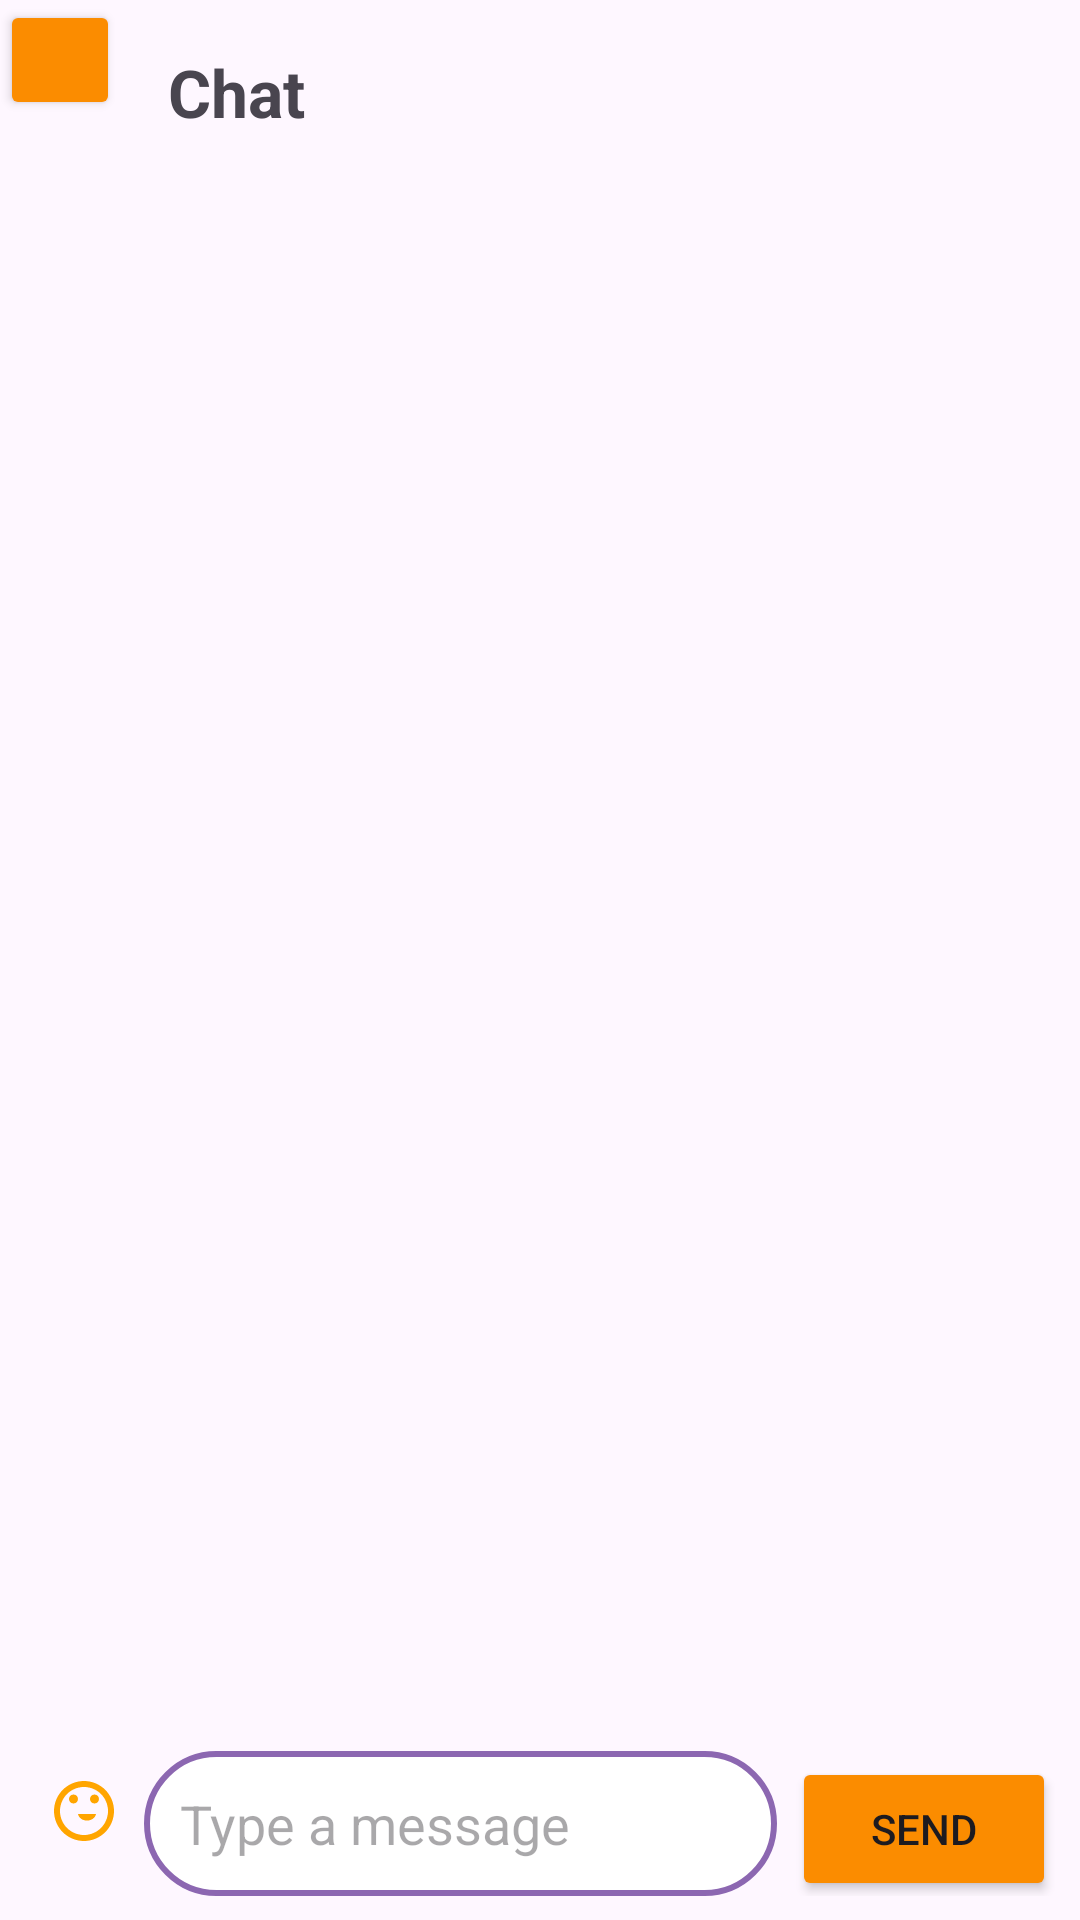

Where to tap for icons on this 1080×1920 app screen, as (x,y):
Emoji Button: (84,1811)
